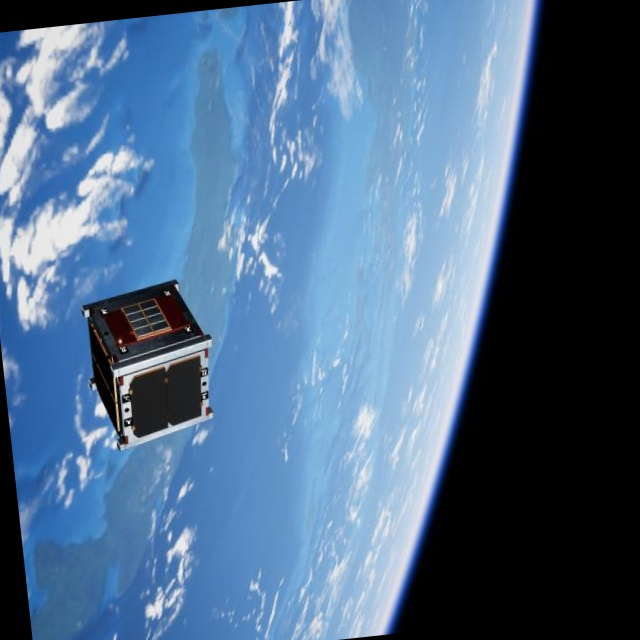satellite: (77, 269, 223, 457)
